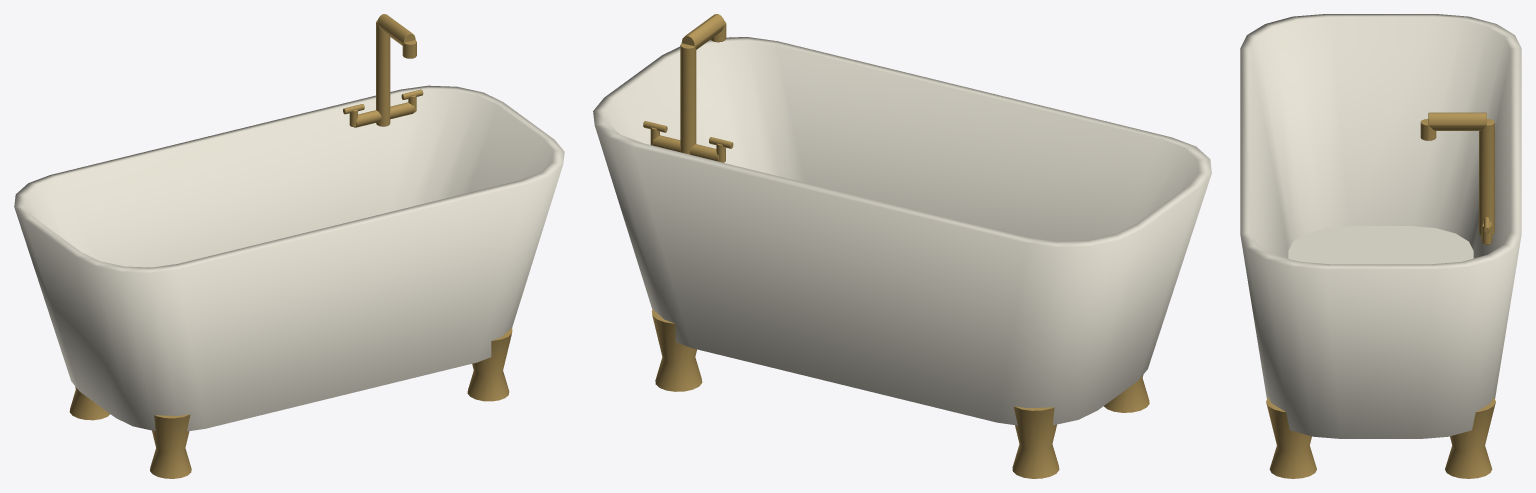
Rendered from rpg-mansion-bathtub-01.glb.
The picture shows the model from 3 angles, left to right: view 1: azimuth 30°, elevation 25°; view 2: azimuth 150°, elevation 25°; view 3: azimuth 270°, elevation 25°; orthographic projection. The views are drawn at different scales.
Visible parts, largest first — view 1: rpg-mansion-bathtub-01; view 2: rpg-mansion-bathtub-01; view 3: rpg-mansion-bathtub-01.
Part boxes in pixels (x1=…): rpg-mansion-bathtub-01: x1=14, y1=14, x2=564, y2=478; rpg-mansion-bathtub-01: x1=593, y1=14, x2=1211, y2=478; rpg-mansion-bathtub-01: x1=1240, y1=14, x2=1521, y2=478.
Size of the model in its own units: 1.72 by 1.09 by 0.8.
